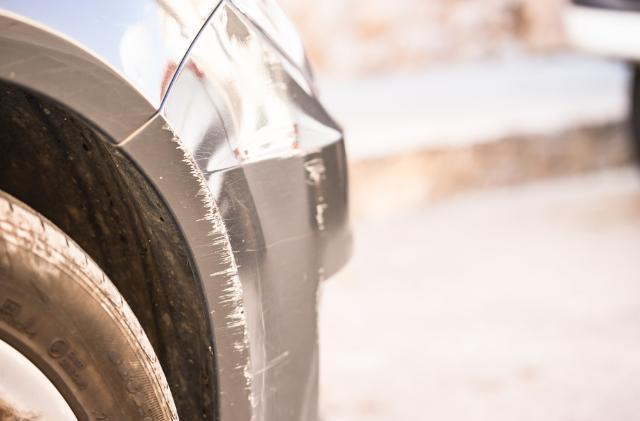scratch: (161, 121, 263, 421), (299, 146, 327, 242)
